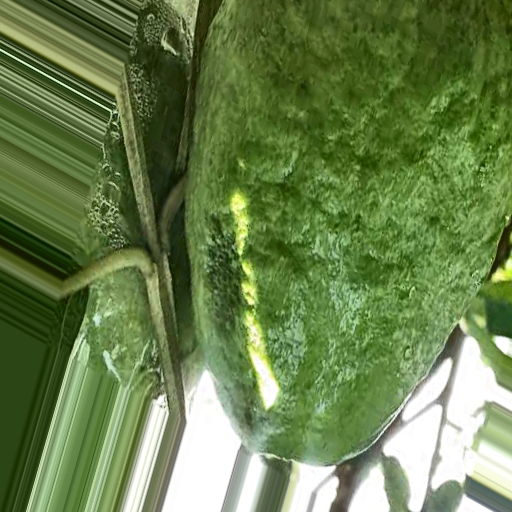guava: (46, 78, 465, 512)
